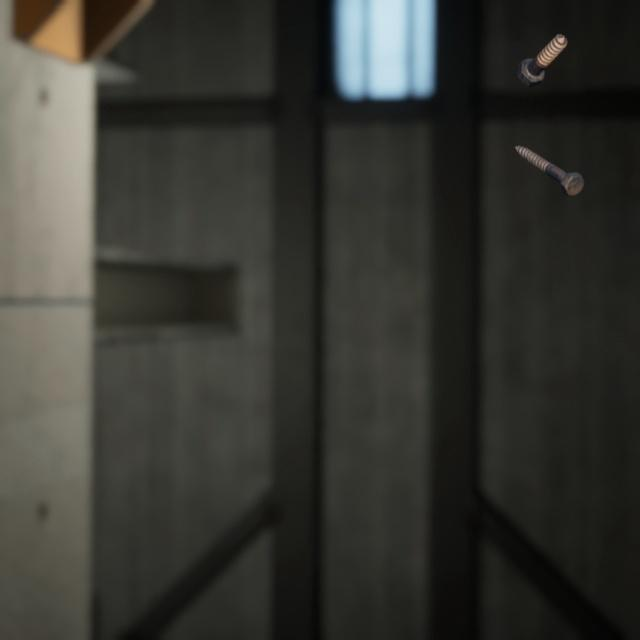bolt: (510, 127, 588, 186), (512, 19, 571, 81)
